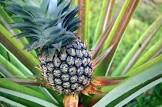Pineapple: (8, 1, 96, 93)
